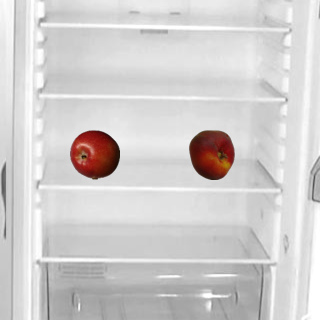Apple Braeburn: (69, 129, 119, 179)
Nectarine Flat: (186, 129, 236, 179)
